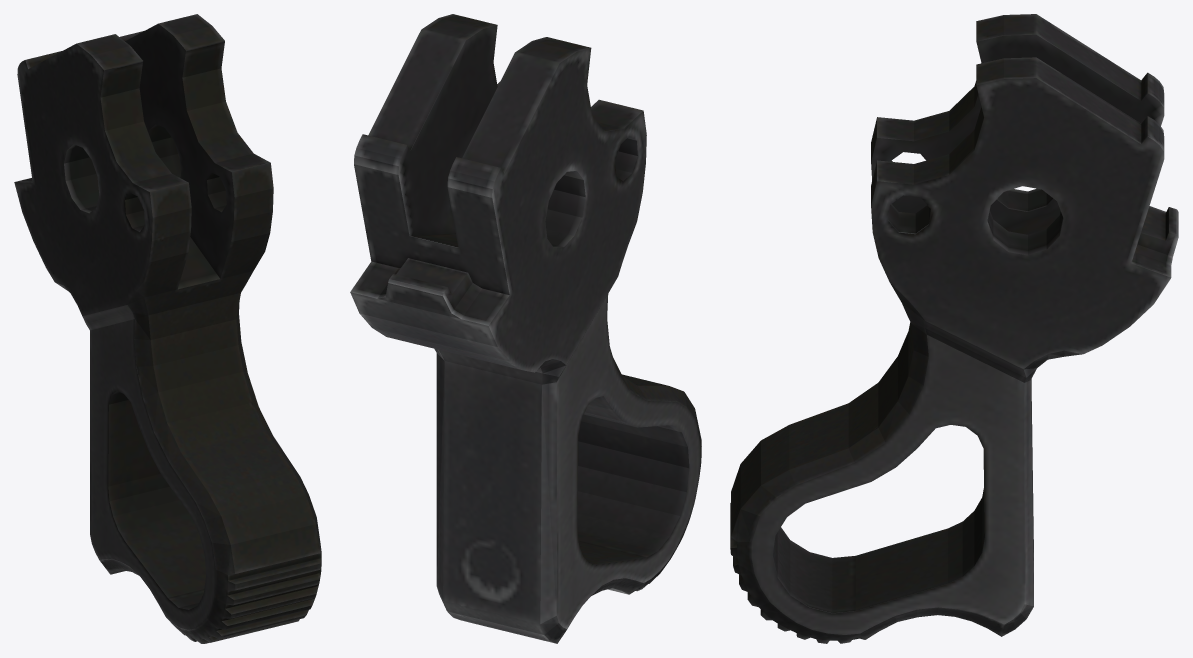
The picture shows the model from 3 angles, left to right: view 1: azimuth 30°, elevation 25°; view 2: azimuth 150°, elevation 25°; view 3: azimuth 270°, elevation 25°; orthographic projection. The views are drawn at different scales.
Parts seen in each view (by area): view 1: TW_5ef35bc243cb350a955a7ccd_PZ_Import; view 2: TW_5ef35bc243cb350a955a7ccd_PZ_Import; view 3: TW_5ef35bc243cb350a955a7ccd_PZ_Import.
Part boxes in pixels (left/top/right/bottom): TW_5ef35bc243cb350a955a7ccd_PZ_Import: left=14, top=14, right=321, bottom=643; TW_5ef35bc243cb350a955a7ccd_PZ_Import: left=350, top=14, right=701, bottom=643; TW_5ef35bc243cb350a955a7ccd_PZ_Import: left=730, top=14, right=1178, bottom=643.
Size of the model in its own units: 0.00453 by 0.0134 by 0.019.
1 material, 1 textured.
